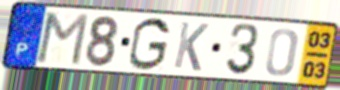0: (263, 27, 301, 78)
3: (224, 22, 261, 78)
8: (84, 14, 122, 69)
G: (126, 16, 172, 72)
K: (171, 20, 211, 73)
M: (33, 10, 91, 68)
